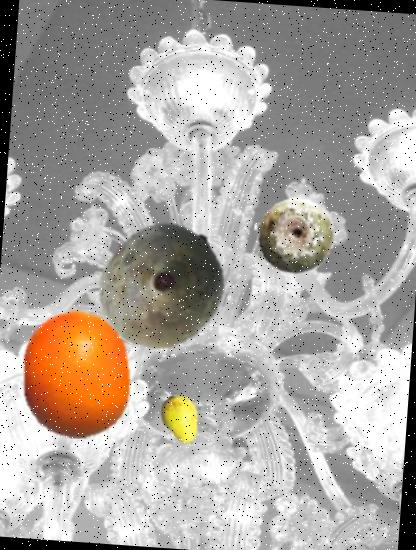Beetroot: (90, 213, 235, 357)
Cactus: (250, 194, 336, 280)
Grapefruit: (7, 306, 145, 444)
Pear: (152, 392, 208, 448)
